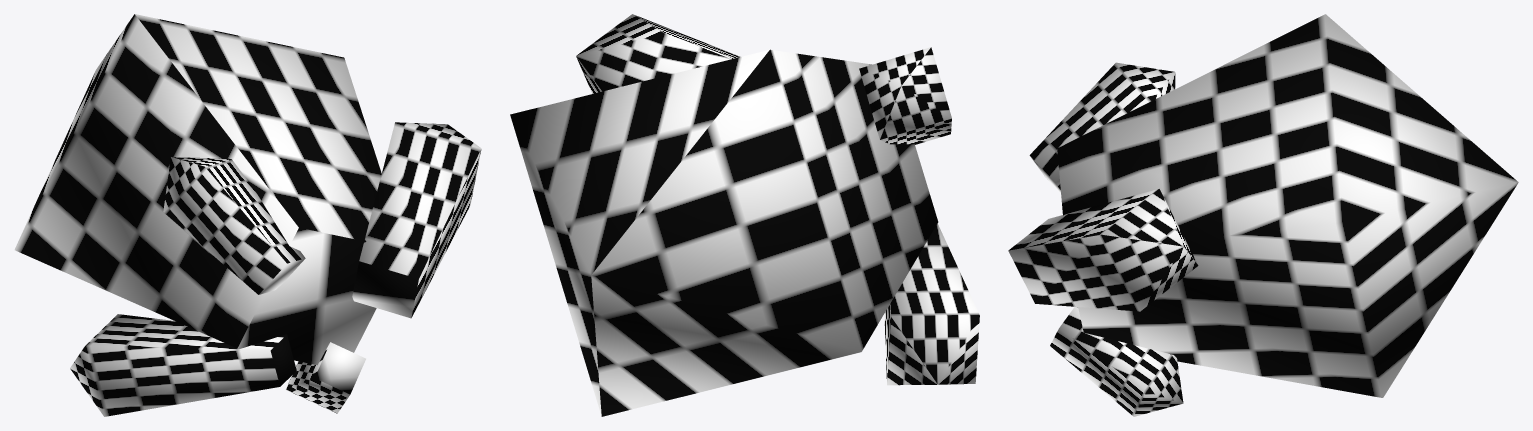
The model's file is initlimt27.dae.
3 views of the same model, side by side, from view 1: azimuth 30°, elevation 25°; view 2: azimuth 150°, elevation 25°; view 3: azimuth 270°, elevation 25° (orthographic). The views are drawn at different scales.
Visible parts, largest first — view 1: item; view 2: item; view 3: item.
Boxes of the visible parts, x1=… form: item: x1=14, y1=14, x2=481, y2=416; item: x1=510, y1=14, x2=979, y2=416; item: x1=1008, y1=14, x2=1518, y2=416.
Bounding box in the file's own units: 1.22 × 1.52 × 1.15.
Materials: 1 (1 with a texture image).
